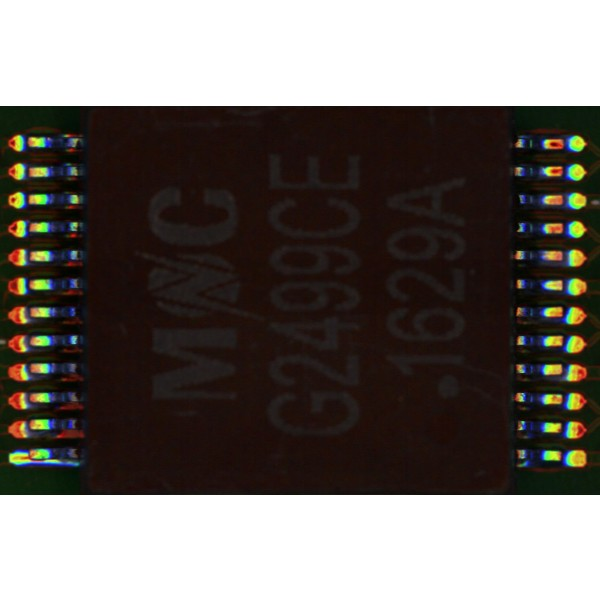Bad_podu: (18, 454, 34, 461)
Bad_qiaojiao: (30, 460, 82, 466)
